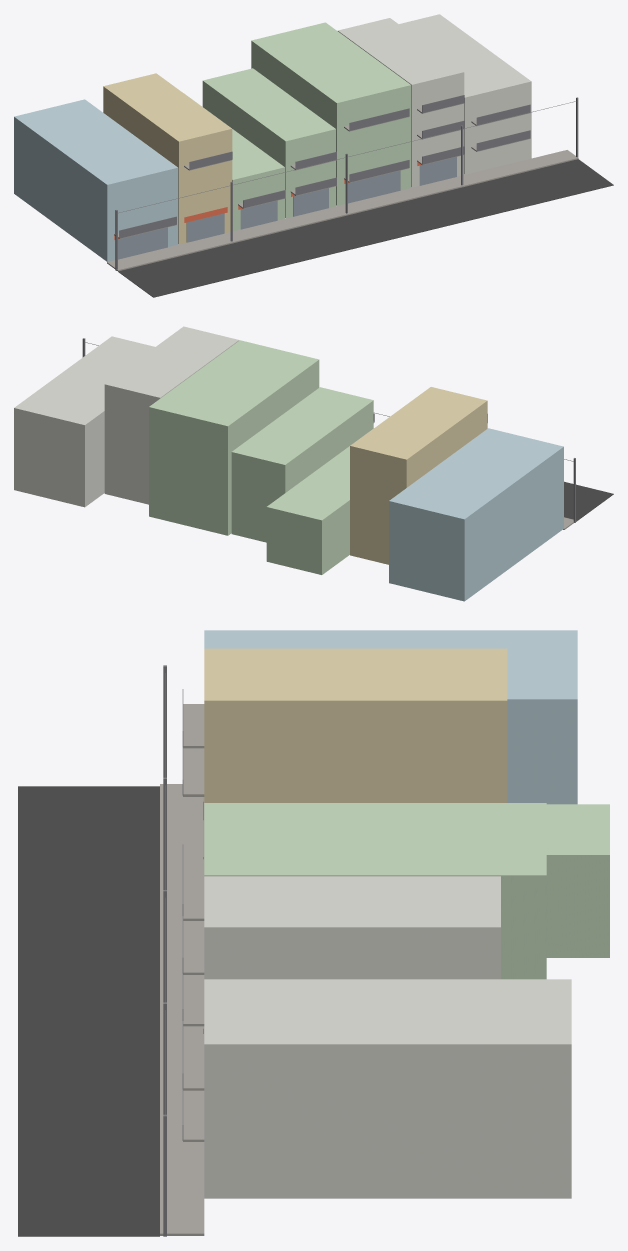
File: Block_OldCity_01.fbx
3 views of the same model, one above another, from view 1: azimuth 30°, elevation 25°; view 2: azimuth 150°, elevation 25°; view 3: azimuth 270°, elevation 25° (orthographic). The views are drawn at different scales.
Parts seen in each view (by area): view 1: Building_00_LOD0, Road, Building_04_LOD0, Building_01_LOD0, Building_03_LOD0, Building_06_LOD0, Building_05_LOD0, Sidewalk, Building_02_LOD0, Building_04_Shutter, Building_00_Shutter, Building_01_Shutter (+8 smaller); view 2: Building_00_LOD0, Building_04_LOD0, Building_06_LOD0, Building_01_LOD0, Building_03_LOD0, Building_05_LOD0, Building_02_LOD0, Road; view 3: Building_06_LOD0, Road, Building_01_LOD0, Building_05_LOD0, Building_04_LOD0, Building_00_LOD0, Sidewalk, Building_02_LOD0, Building_04_Balcony_3, Building_06_Balcony_2, Building_06_Balcony_1, Building_00_Balcony_1 (+3 smaller).
Boxes of the visible parts, x1,y1,x2,y2 form: Building_00_LOD0: (14, 99, 178, 261); Road: (118, 159, 613, 297); Building_04_LOD0: (251, 22, 411, 205); Building_01_LOD0: (103, 73, 232, 244); Building_03_LOD0: (202, 68, 335, 218); Building_06_LOD0: (399, 14, 531, 174); Building_05_LOD0: (338, 18, 464, 187); Sidewalk: (107, 150, 578, 271); Building_02_LOD0: (184, 93, 284, 231); Building_04_Shutter: (348, 170, 400, 203); Building_00_Shutter: (118, 227, 167, 259); Building_01_Shutter: (186, 213, 224, 242); Building_00_LOD0: (389, 428, 563, 601); Building_04_LOD0: (149, 340, 319, 535); Building_06_LOD0: (14, 336, 154, 507); Building_01_LOD0: (350, 387, 487, 564); Building_03_LOD0: (231, 387, 373, 542); Building_05_LOD0: (104, 326, 239, 504); Building_02_LOD0: (266, 429, 372, 574); Road: (564, 481, 613, 521); Building_06_LOD0: (204, 979, 571, 1198); Road: (18, 786, 159, 1236); Building_01_LOD0: (204, 648, 507, 802); Building_05_LOD0: (204, 876, 500, 979); Building_04_LOD0: (204, 803, 546, 979); Building_00_LOD0: (204, 630, 577, 804); Sidewalk: (160, 784, 204, 1235); Building_02_LOD0: (546, 804, 609, 957); Building_04_Balcony_3: (183, 860, 204, 920); Building_06_Balcony_2: (183, 1035, 204, 1090); Building_06_Balcony_1: (183, 1090, 204, 1141); Building_00_Balcony_1: (183, 748, 204, 796).
Size of what is drawn, in the model's own units: 60.2 by 13 by 33.39.
